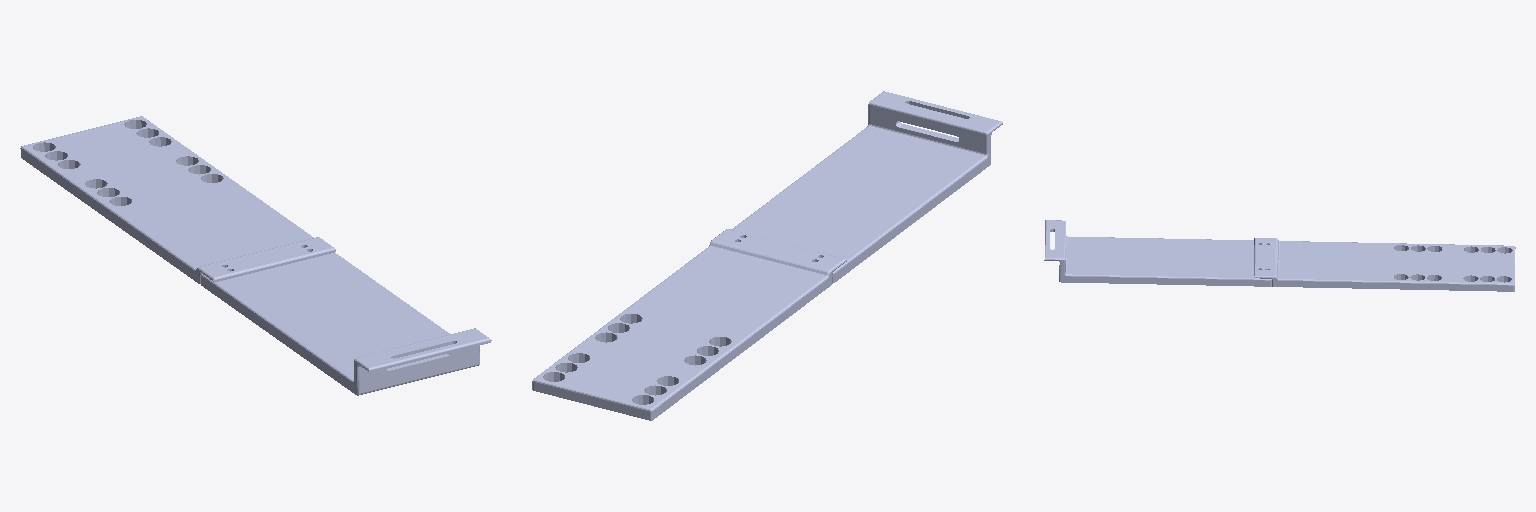
URDF robot description (tray_urdf):
<?xml version="1.0" encoding="utf-8"?>
<!-- This URDF was automatically created by SolidWorks to URDF Exporter! Originally created by Stephen Brawner (brawner@gmail.com) 
     Commit Version: 1.6.0-4-g7f85cfe  Build Version: 1.6.7995.38578
     For more information, please see http://wiki.ros.org/sw_urdf_exporter -->
<robot
  name="tray_urdf">
  <link
    name="base_link">
    <inertial>
      <origin
        xyz="0.13364554811827 0.0243328126440196 0.0134721163864014"
        rpy="0 0 0" />
      <mass
        value="0.101938516517183" />
      <inertia
        ixx="0.000208826150754234"
        ixy="-2.37894299539038E-07"
        ixz="1.10016958993403E-06"
        iyy="0.000239505140236254"
        iyz="-6.89915103749253E-06"
        izz="3.23449772447907E-05" />
    </inertial>
    <visual>
      <origin
        xyz="0 0 0"
        rpy="0 0 0" />
      <geometry>
        <mesh
          filename="package://tray_urdf/meshes/base_link.STL" />
      </geometry>
      <material
        name="">
        <color
          rgba="0.792156862745098 0.819607843137255 0.933333333333333 1" />
      </material>
    </visual>
    <collision>
      <origin
        xyz="0 0 0"
        rpy="0 0 0" />
      <geometry>
        <mesh
          filename="package://tray_urdf/meshes/base_link.STL" />
      </geometry>
    </collision>
  </link>
  <link
    name="Tray">
    <inertial>
      <origin
        xyz="-5.55111512312578E-17 0.00627093034826935 8.32667268468867E-17"
        rpy="0 0 0" />
      <mass
        value="0.181004039525064" />
      <inertia
        ixx="0.000358006666448015"
        ixy="-9.09713385351119E-19"
        ixz="7.41153828847513E-21"
        iyy="0.000744479435619802"
        iyz="1.83806149554183E-19"
        izz="0.000398108228948015" />
    </inertial>
    <visual>
      <origin
        xyz="0 0 0"
        rpy="0 0 0" />
      <geometry>
        <mesh
          filename="package://tray_urdf/meshes/Tray.STL" />
      </geometry>
      <material
        name="">
        <color
          rgba="0.792156862745098 0.819607843137255 0.933333333333333 1" />
      </material>
    </visual>
    <collision>
      <origin
        xyz="0 0 0"
        rpy="0 0 0" />
      <geometry>
        <mesh
          filename="package://tray_urdf/meshes/Tray.STL" />
      </geometry>
    </collision>
  </link>
  <joint
    name="Tray_joint"
    type="fixed">
    <origin
      xyz="0.134940292172613 0.117878478878035 0.0341115221239427"
      rpy="1.57994134692215 -0.0195677523332654 -1.57755033049173" />
    <parent
      link="base_link" />
    <child
      link="Tray" />
    <axis
      xyz="0 0 0" />
  </joint>
</robot>

--- Render facts (derived) ---
3 views of the same robot in one strip: view 1: azimuth 30°, elevation 25°; view 2: azimuth 150°, elevation 25°; view 3: azimuth 270°, elevation 25° (orthographic).
Model tray_urdf with 2 links and 1 joints (1 fixed), rooted at base_link, posed all joints at 0.
Visible links, largest first — view 1: base_link; view 2: base_link; view 3: base_link.
Link boxes in pixels (<box>): base_link: <box>20,116,491,395</box>; base_link: <box>532,91,1002,420</box>; base_link: <box>1044,220,1515,291</box>.
Size in the robot's own frame: 0.0642 by 0.3101 by 0.0236 metres.
1 mesh visuals loaded from 2 distinct referenced files (1 binary STL); not drawn: 1 (reference not matched to a file when rendering).
